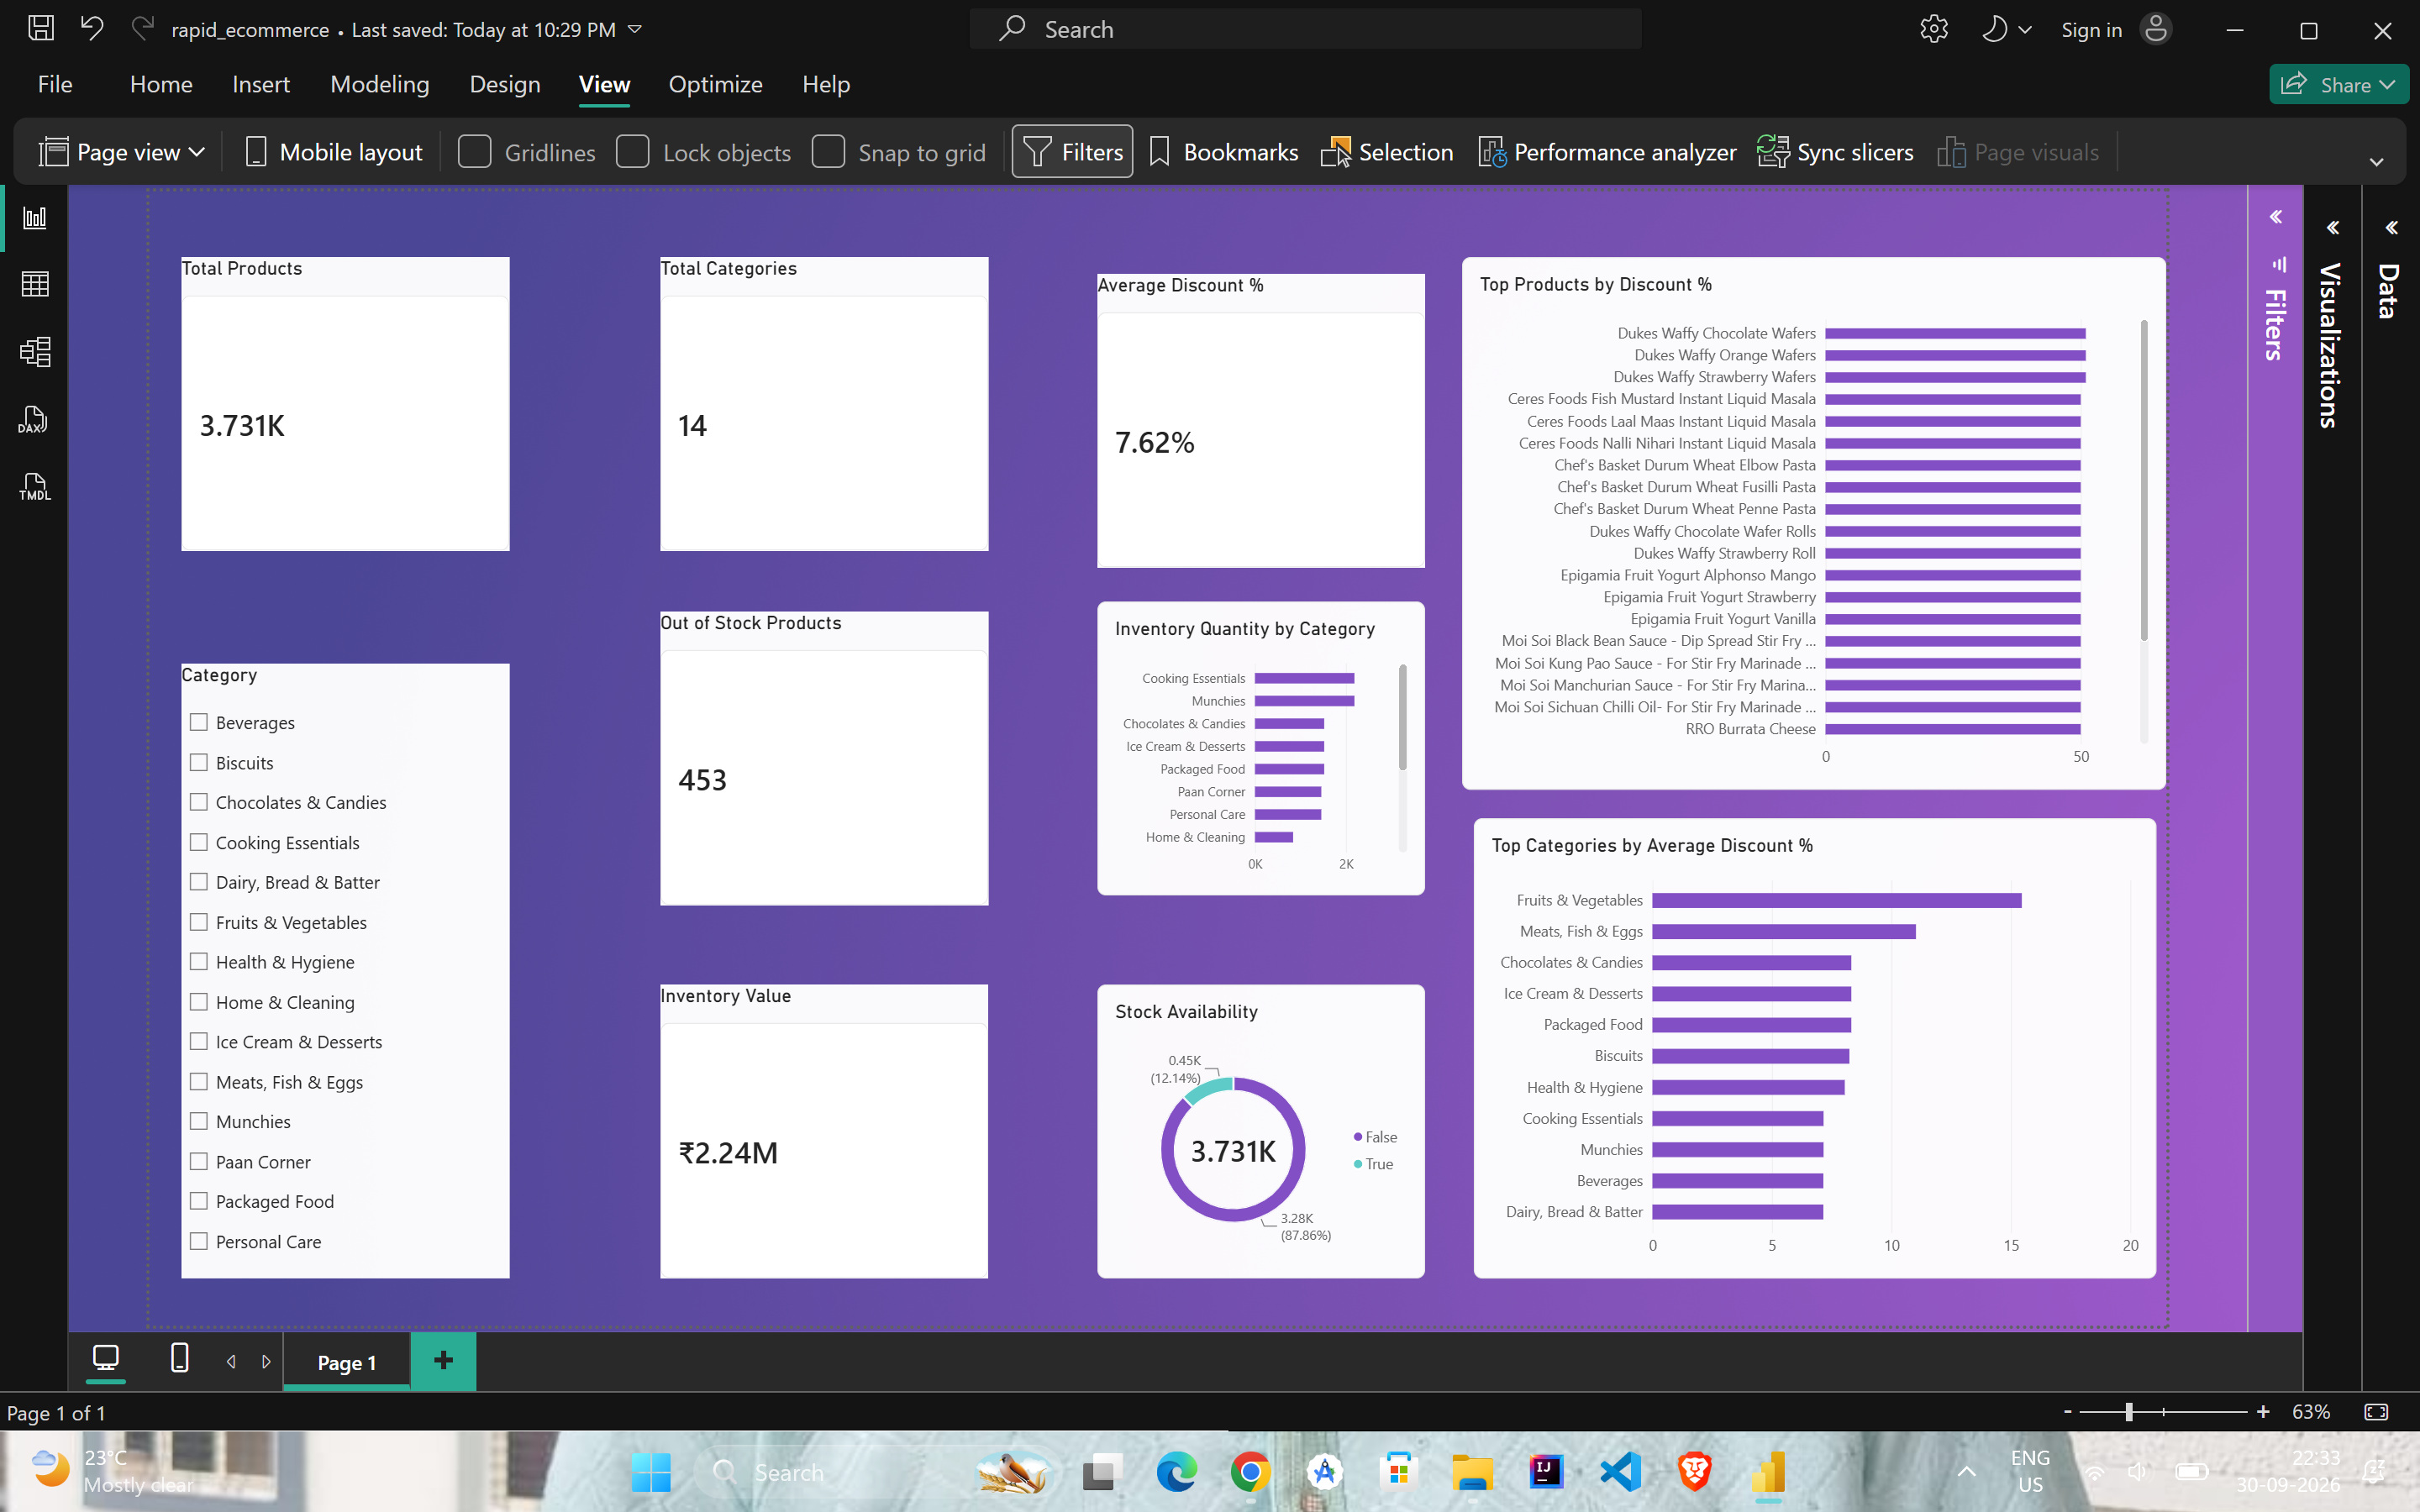

The dashboard page shown, as its layout file describes it:
{"tool":"powerbi","page":{"name":"Page 1","canvas":[1920,1080],"ordinal":0},"visuals":[{"type":"cardVisual","title":"Total Products","fields":{"Data":["CountNonNull(public zepto.sku_id)"]},"box":[29.9,62,312.3,280.2],"z":0},{"type":"cardVisual","title":"Total Categories","fields":{"Data":["public zepto.Total Categories"]},"box":[486.9,62,312.3,280.2],"z":1000},{"type":"cardVisual","title":"Average Discount %","fields":{"Data":["public zepto.Average Discount %"]},"box":[902.6,78.1,312,280],"z":2000},{"type":"cardVisual","title":"Out of Stock Products","fields":{"Data":["public zepto.Out of Stock Products"]},"box":[486.9,399.6,312.3,280.2],"z":3000},{"type":"clusteredBarChart","title":"Inventory Quantity by Category","fields":{"Category":["public zepto.category"],"Y":["Sum(public zepto.availablequantity)"]},"box":[902.6,390.4,312,280],"z":4000},{"type":"donutChart","title":"Stock Availability","fields":{"Category":["public zepto.outofstock"],"Y":["CountNonNull(public zepto.sku_id)"]},"box":[902.6,755.6,312,280],"z":5000},{"type":"clusteredBarChart","title":"Top Products by Discount %","fields":{"Category":["public zepto.name"],"Y":["Avg(public zepto.discountpercent)"]},"box":[1249.4,62,670.6,507.6],"z":6000},{"type":"clusteredBarChart","title":"Top Categories by Average Discount %","fields":{"Category":["public zepto.category"],"Y":["Avg(public zepto.discountpercent)"]},"box":[1260.9,597.1,650,438.7],"z":7000},{"type":"cardVisual","title":"Inventory Value","fields":{"Data":["public zepto.Inventory Value"]},"box":[486.9,755.6,312,280],"z":7001},{"type":"slicer","title":"Category","fields":{"Values":["public zepto.category"]},"box":[29.9,450.1,312.3,585.6],"z":7002}]}

Visuals, with their boxes on the page's 1920x1080 design canvas (x1, y1, x2, y2). These are canvas units, not pixel positions in the 2420x1512 screenshot, which may show the page scaled, cropped or inside an application window:
"Total Products" cardVisual: [x1=30, y1=62, x2=342, y2=342]
"Total Categories" cardVisual: [x1=487, y1=62, x2=799, y2=342]
"Average Discount %" cardVisual: [x1=903, y1=78, x2=1215, y2=358]
"Out of Stock Products" cardVisual: [x1=487, y1=400, x2=799, y2=680]
"Inventory Quantity by Category" clusteredBarChart: [x1=903, y1=390, x2=1215, y2=670]
"Stock Availability" donutChart: [x1=903, y1=756, x2=1215, y2=1036]
"Top Products by Discount %" clusteredBarChart: [x1=1249, y1=62, x2=1920, y2=570]
"Top Categories by Average Discount %" clusteredBarChart: [x1=1261, y1=597, x2=1911, y2=1036]
"Inventory Value" cardVisual: [x1=487, y1=756, x2=799, y2=1036]
"Category" slicer: [x1=30, y1=450, x2=342, y2=1036]
